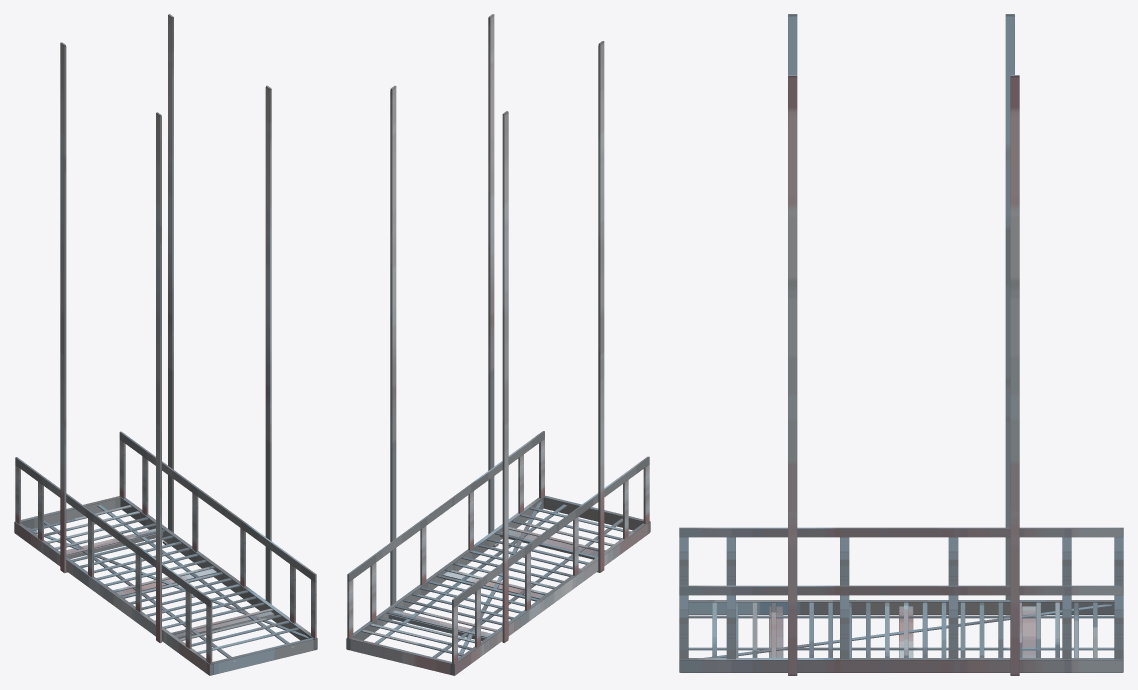
The model's file is Scaffolding_1.fbx.
The picture shows the model from 3 angles, left to right: view 1: azimuth 30°, elevation 25°; view 2: azimuth 150°, elevation 25°; view 3: azimuth 270°, elevation 25°; orthographic projection. The views are drawn at different scales.
Parts seen in each view (by area): view 1: One of the Legs, cuboid, cuboid_33, cuboid_32, cuboid_1, cuboid_2, cuboid_35, cuboid_34, cuboid_3, cuboid_4, cuboid_17, cuboid_16 (+3 smaller); view 2: cuboid_33, One of the Legs, cuboid_32, cuboid, cuboid_1, cuboid_2, cuboid_35, cuboid_34, cuboid_4, cuboid_3, cuboid_17, cuboid_5 (+4 smaller); view 3: cuboid_2, cuboid_32, cuboid, cuboid_34, cuboid_35, cuboid_1, One of the Legs, cuboid_15, cuboid_17, cuboid_16, Cuboids_7, cuboid_5.
Part boxes in pixels (box(x1,y1,x2,y2)): One of the Legs: box(60, 42, 66, 573); cuboid: box(265, 85, 271, 604); cuboid_33: box(156, 112, 161, 643); cuboid_32: box(168, 14, 173, 532); cuboid_1: box(14, 521, 213, 675); cuboid_2: box(119, 496, 317, 650); cuboid_35: box(119, 431, 316, 582); cuboid_34: box(15, 457, 212, 607); cuboid_3: box(212, 638, 313, 674); cuboid_4: box(21, 496, 120, 528); cuboid_17: box(97, 505, 294, 647); cuboid_16: box(27, 527, 308, 638); cuboid_33: box(598, 41, 604, 572); One of the Legs: box(502, 111, 508, 642); cuboid_32: box(390, 85, 396, 605); cuboid: box(488, 14, 494, 533); cuboid_1: box(451, 521, 650, 675); cuboid_2: box(346, 495, 545, 650); cuboid_35: box(347, 431, 544, 581); cuboid_34: box(452, 456, 649, 607); cuboid_4: box(350, 637, 451, 674); cuboid_3: box(543, 496, 643, 530); cuboid_17: box(375, 504, 567, 643); cuboid_5: box(388, 610, 491, 640); cuboid_2: box(679, 658, 1123, 672); cuboid_32: box(1010, 75, 1019, 675); cuboid: box(788, 75, 797, 675); cuboid_34: box(679, 527, 1123, 537); cuboid_35: box(679, 585, 1123, 595); cuboid_1: box(688, 600, 1114, 614); One of the Legs: box(1005, 14, 1014, 599); cuboid_15: box(688, 615, 1114, 618); cuboid_17: box(688, 647, 1114, 650); cuboid_16: box(704, 604, 1112, 657); Cuboids_7: box(948, 595, 958, 659); cuboid_5: box(1022, 606, 1036, 657).
Bounding box in the file's own units: 194 × 875 × 588.
3 materials, 3 textured.
